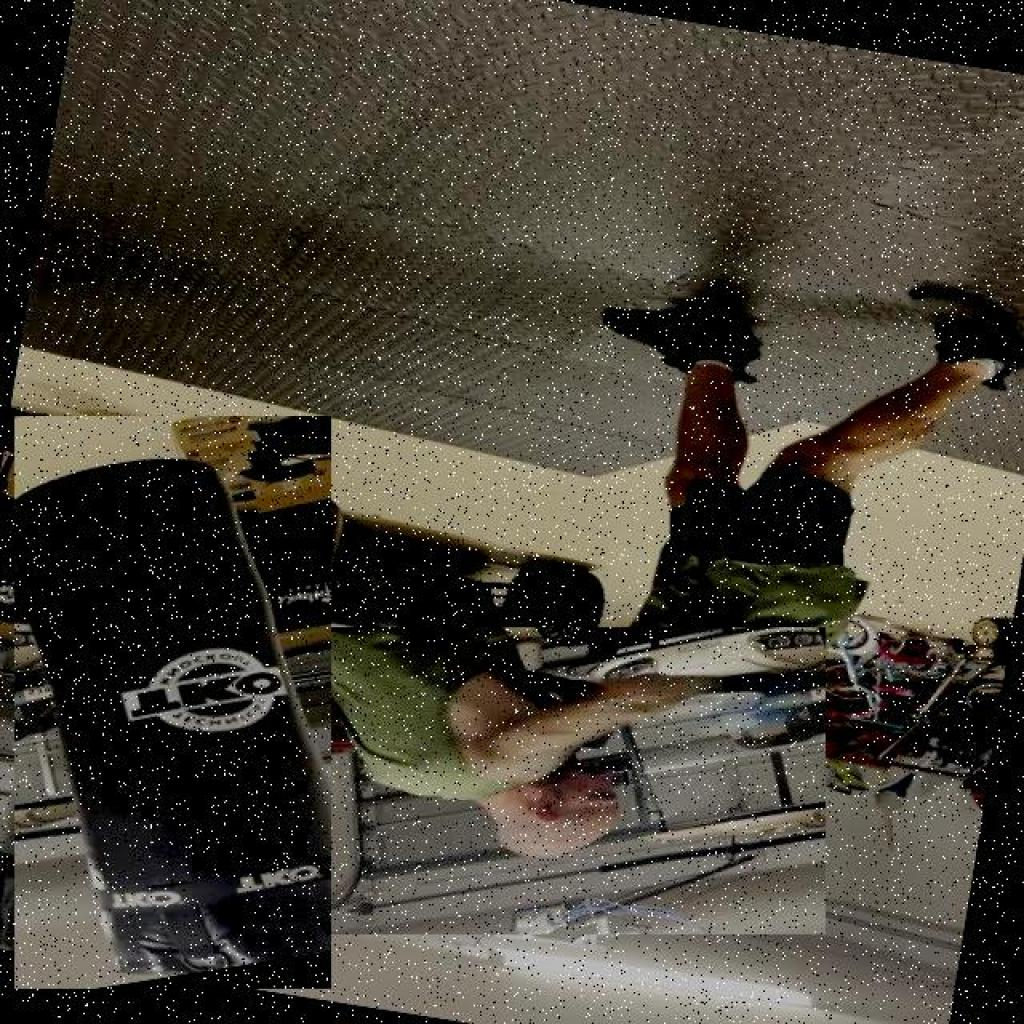bag: (14, 416, 332, 989)
cross: (307, 627, 826, 935)
